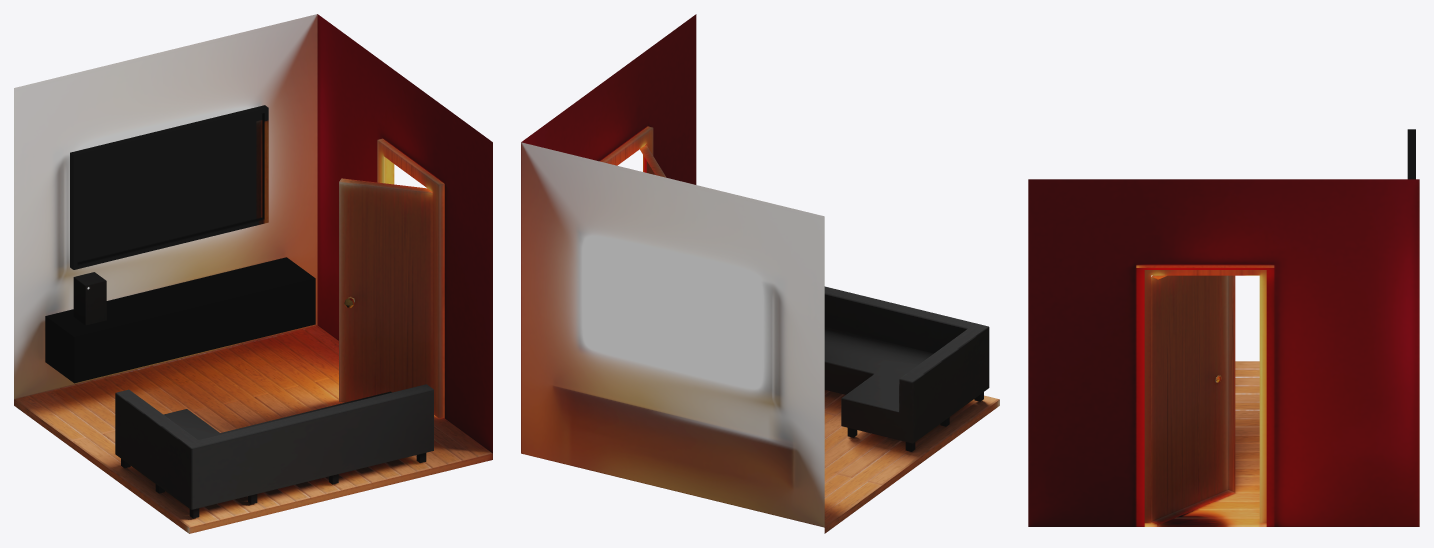
The model's file is livingRoom.glb.
3 views of the same model, side by side, from view 1: azimuth 30°, elevation 25°; view 2: azimuth 150°, elevation 25°; view 3: azimuth 270°, elevation 25° (orthographic). The views are drawn at different scales.
Visible parts, largest first — view 1: Walls_Baked, Planks_Baked, Door_Baked, Sofa_Baked, TV_Baked, TV Cabinet_Baked, Foundation_Baked, Xbox_Baked; view 2: Walls_Baked, Sofa_Baked, Planks_Baked, Door_Baked, Foundation_Baked; view 3: Walls_Baked, Door_Baked, Planks_Baked.
Part boxes in pixels (x1,y1,x2,y2): Walls_Baked: (14, 14, 492, 453); Planks_Baked: (14, 325, 492, 527); Door_Baked: (339, 138, 444, 418); Sofa_Baked: (115, 384, 433, 518); TV_Baked: (70, 105, 268, 269); TV Cabinet_Baked: (45, 257, 315, 383); Foundation_Baked: (14, 399, 492, 533); Xbox_Baked: (73, 272, 106, 325); Walls_Baked: (521, 14, 824, 527); Sofa_Baked: (824, 286, 989, 451); Planks_Baked: (824, 390, 999, 527); Door_Baked: (600, 126, 666, 177); Foundation_Baked: (824, 399, 999, 533); Walls_Baked: (1028, 179, 1419, 526); Door_Baked: (1136, 265, 1274, 524); Planks_Baked: (1144, 361, 1266, 526).
Size of the model in its own units: 1.02 by 1 by 1.
Materials: 1 (1 with a texture image).
